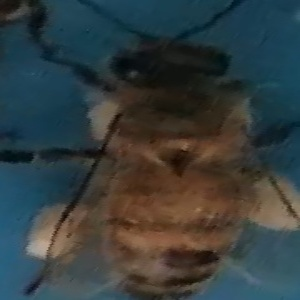bee: (50, 17, 297, 299)
